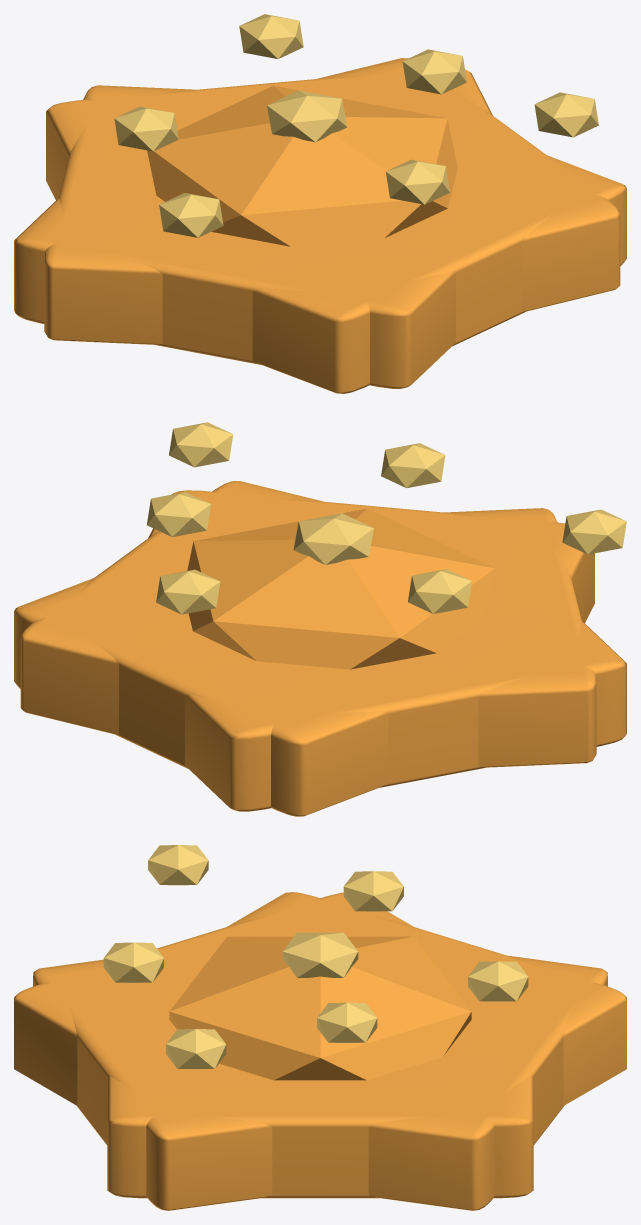
File: starfish.glb
3 views of the same model, one above another, from view 1: azimuth 30°, elevation 25°; view 2: azimuth 150°, elevation 25°; view 3: azimuth 270°, elevation 25° (orthographic).
Parts seen in each view (by area): view 1: fat starfish arm.003, rounded star center, fat starfish arm.004, fat starfish arm, fat starfish arm.002, fat starfish arm.001, raised yellow star dot, raised yellow star dot.002, raised yellow star dot.006, raised yellow star dot.003, raised yellow star dot.005, raised yellow star dot.001 (+1 smaller); view 2: fat starfish arm.002, fat starfish arm.001, rounded star center, fat starfish arm.003, fat starfish arm, fat starfish arm.004, raised yellow star dot, raised yellow star dot.002, raised yellow star dot.003, raised yellow star dot.004, raised yellow star dot.005, raised yellow star dot.006 (+1 smaller); view 3: fat starfish arm, rounded star center, fat starfish arm.004, fat starfish arm.001, fat starfish arm.002, fat starfish arm.003, raised yellow star dot, raised yellow star dot.002, raised yellow star dot.003, raised yellow star dot.004, raised yellow star dot.005, raised yellow star dot.006 (+1 smaller).
Part boxes in pixels (bbox=[...]): fat starfish arm.003: bbox=[14, 186, 455, 388]; rounded star center: bbox=[147, 85, 457, 246]; fat starfish arm.004: bbox=[252, 155, 626, 393]; fat starfish arm: bbox=[307, 58, 620, 311]; fat starfish arm.002: bbox=[44, 85, 231, 344]; fat starfish arm.001: bbox=[46, 69, 492, 200]; raised yellow star dot: bbox=[267, 90, 347, 142]; raised yellow star dot.002: bbox=[114, 106, 178, 151]; raised yellow star dot.006: bbox=[534, 92, 598, 137]; raised yellow star dot.003: bbox=[239, 14, 303, 58]; raised yellow star dot.005: bbox=[159, 193, 223, 237]; raised yellow star dot.001: bbox=[402, 49, 466, 94]; fat starfish arm.002: bbox=[185, 609, 626, 811]; fat starfish arm.001: bbox=[14, 573, 388, 816]; rounded star center: bbox=[187, 508, 494, 669]; fat starfish arm.003: bbox=[408, 508, 596, 767]; fat starfish arm: bbox=[20, 481, 332, 734]; fat starfish arm.004: bbox=[148, 490, 594, 622]; raised yellow star dot: bbox=[293, 513, 373, 564]; raised yellow star dot.002: bbox=[408, 569, 472, 613]; raised yellow star dot.003: bbox=[156, 569, 220, 614]; raised yellow star dot.004: bbox=[381, 443, 445, 488]; raised yellow star dot.005: bbox=[562, 509, 626, 554]; raised yellow star dot.006: bbox=[169, 422, 233, 467]; fat starfish arm: bbox=[107, 1058, 533, 1198]; rounded star center: bbox=[169, 936, 471, 1080]; fat starfish arm.004: bbox=[33, 959, 287, 1210]; fat starfish arm.001: bbox=[368, 955, 607, 1210]; fat starfish arm.002: bbox=[227, 892, 626, 1105]; fat starfish arm.003: bbox=[14, 892, 413, 1105]; raised yellow star dot: bbox=[282, 932, 358, 977]; raised yellow star dot.002: bbox=[343, 871, 403, 911]; raised yellow star dot.003: bbox=[468, 961, 528, 1001]; raised yellow star dot.004: bbox=[103, 942, 163, 982]; raised yellow star dot.005: bbox=[148, 845, 208, 885]; raised yellow star dot.006: bbox=[166, 1029, 226, 1069].
Bounding box in the file's own units: 0.6587 × 0.205 × 0.69.
